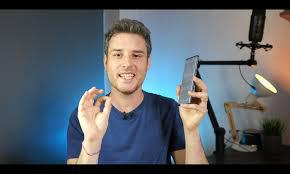0: (112, 38, 145, 93)
1: (73, 89, 117, 137)
Hand: (181, 79, 208, 125)
Smartphone: (174, 56, 199, 106)
